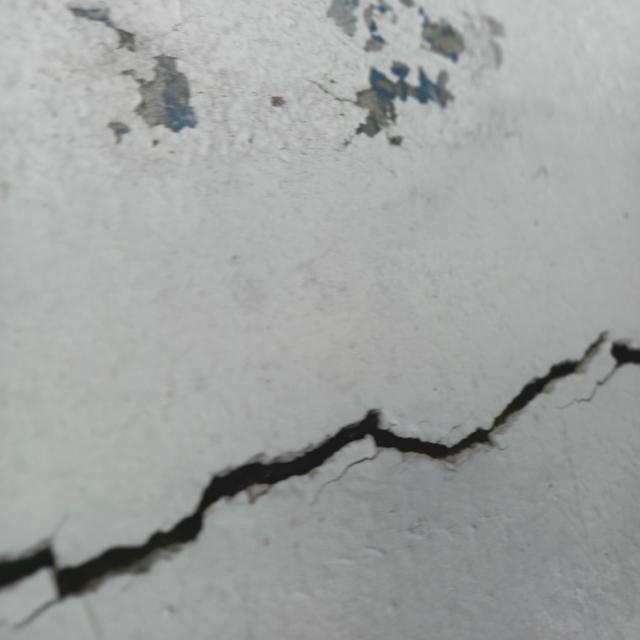SurfaceCrack: (1, 284, 640, 640)
